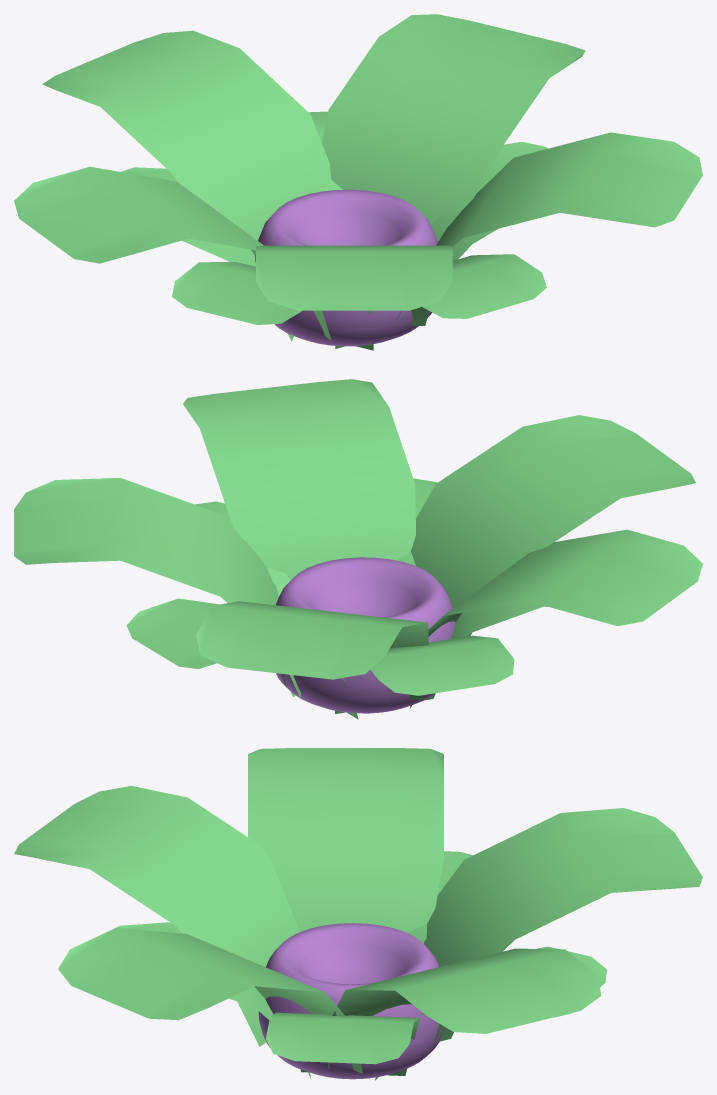
3 renders of one model, top to bottom at view 1: azimuth 30°, elevation 25°; view 2: azimuth 150°, elevation 25°; view 3: azimuth 270°, elevation 25°, orthographic.
Parts seen in each view (by area): view 1: F03_001_Leaves, F03_001_Bulb; view 2: F03_001_Leaves, F03_001_Bulb; view 3: F03_001_Leaves, F03_001_Bulb.
Part boxes in pixels (x1=…): F03_001_Leaves: x1=14, y1=14, x2=702, y2=350; F03_001_Bulb: x1=255, y1=189, x2=437, y2=346; F03_001_Leaves: x1=14, y1=379, x2=702, y2=719; F03_001_Bulb: x1=276, y1=557, x2=455, y2=713; F03_001_Leaves: x1=14, y1=748, x2=702, y2=1080; F03_001_Bulb: x1=258, y1=923, x2=442, y2=1079.
Size of the model in its own units: 174 by 50.51 by 176.
